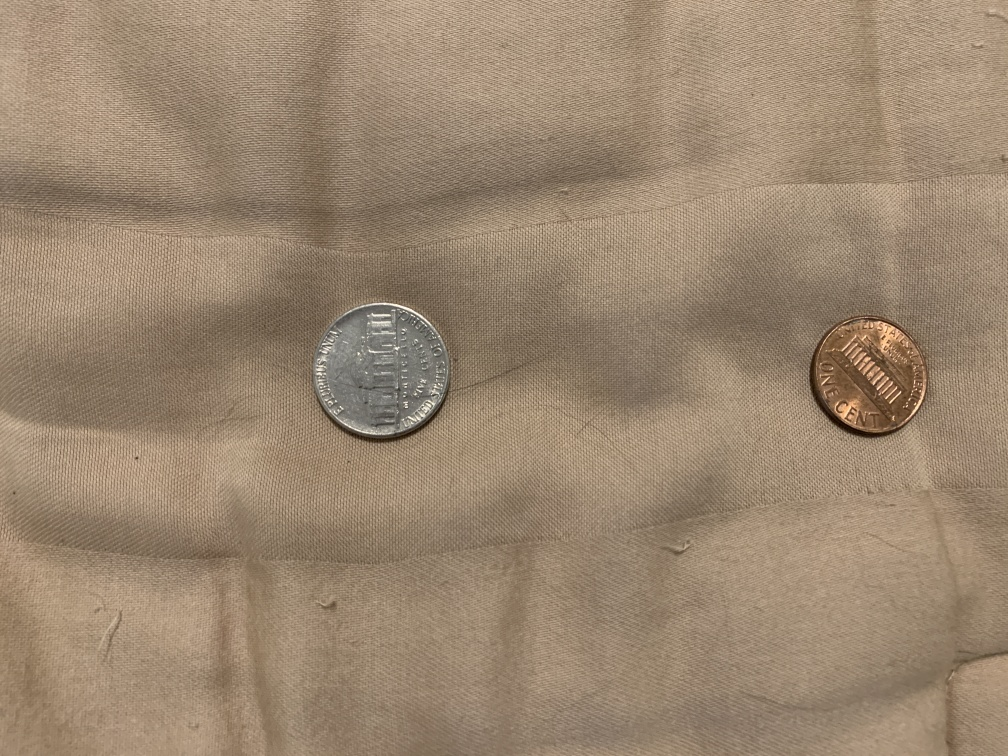nickel: (307, 299, 455, 448)
penny: (807, 312, 930, 440)
